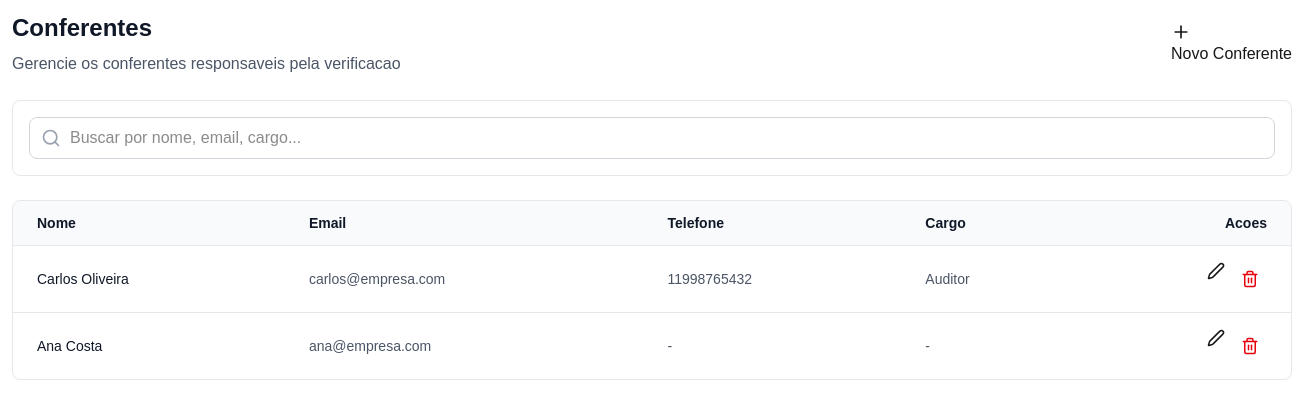
Test: ConferentesList › delete com sucesso remove da lista e exibe toast
Check: the text "Carlos Oliveira" is shown, box [13,246,285,312]
Step 1. Click the button without text in the row of "Carlos Oliveira" → (1250, 279), box [1233,262,1267,296]
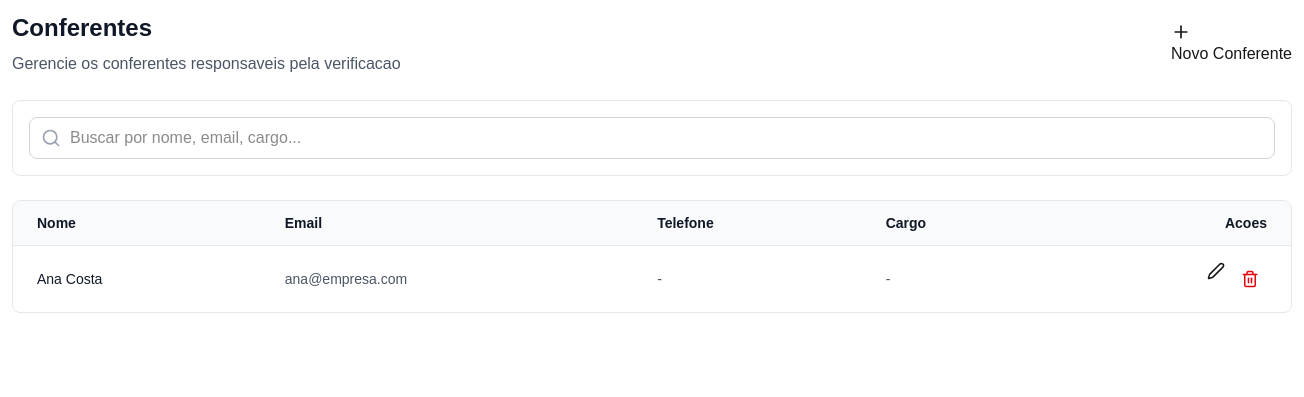
Check: the text "Carlos Oliveira" is gone
